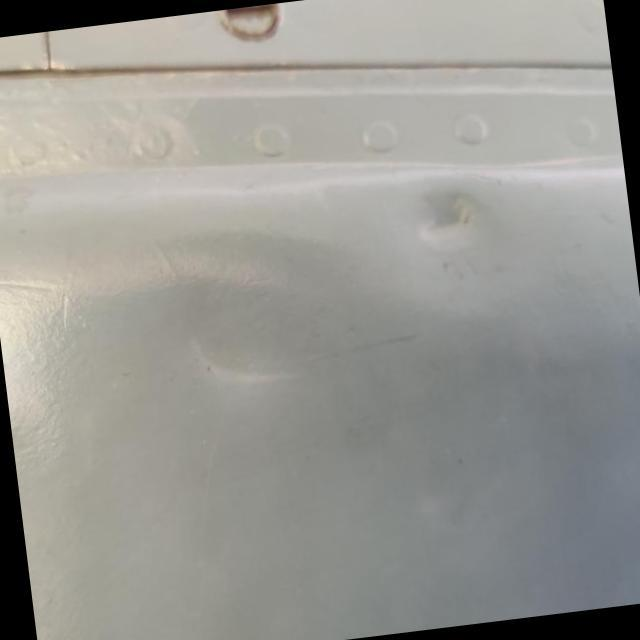Dent: (148, 283, 343, 422), (382, 162, 512, 272)
